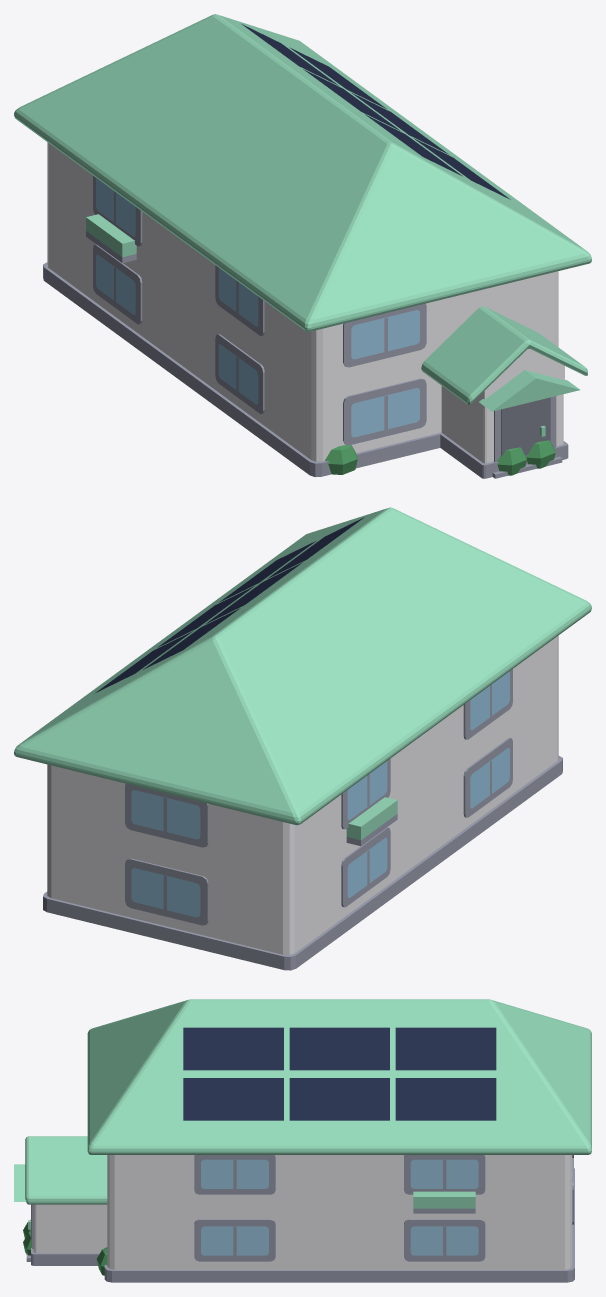
File: house-1x2-2f-mansard-a-solar.glb
3 views of the same model, one above another, from view 1: azimuth 30°, elevation 25°; view 2: azimuth 150°, elevation 25°; view 3: azimuth 270°, elevation 25° (orthographic). The views are drawn at different scales.
Visible parts, largest first — view 1: house-1x2-2f-mansard-a-solar; view 2: house-1x2-2f-mansard-a-solar; view 3: house-1x2-2f-mansard-a-solar.
Boxes of the visible parts, bbox=[...] form: house-1x2-2f-mansard-a-solar: bbox=[14, 14, 591, 478]; house-1x2-2f-mansard-a-solar: bbox=[14, 507, 591, 970]; house-1x2-2f-mansard-a-solar: bbox=[14, 999, 591, 1282].
Bounding box in the file's own units: 1 × 0.8961 × 2.04.
Materials: 1 (1 with a texture image).
